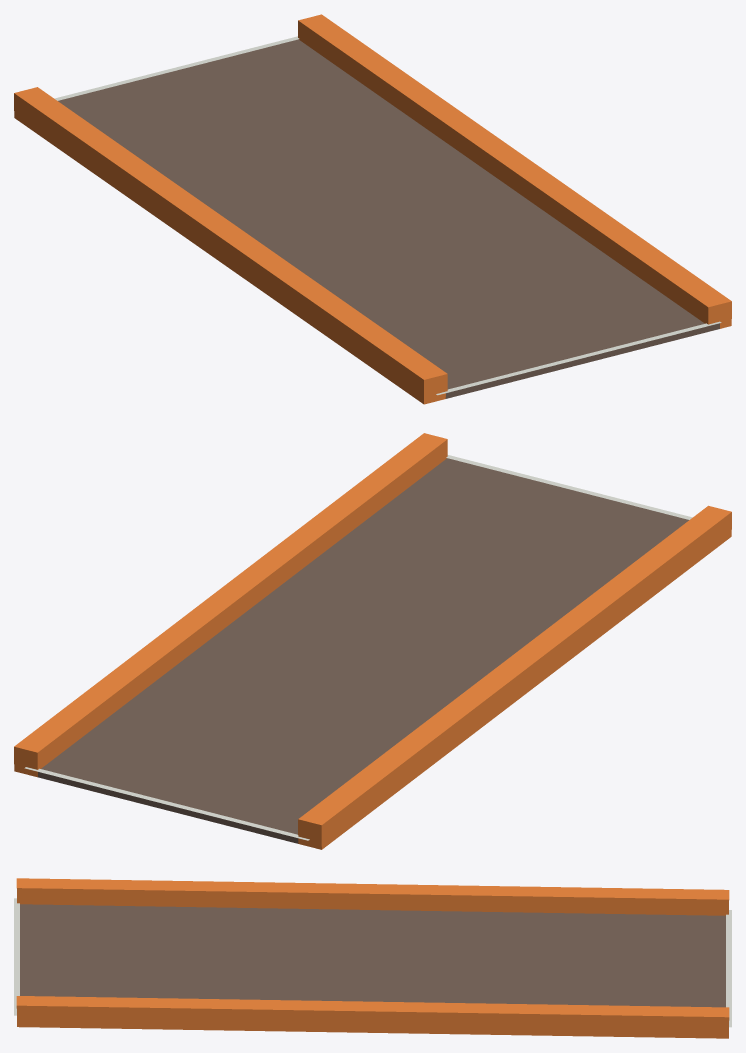
File: SM_MP_Film_B_4_0.fbx
3 renders of one model, top to bottom at view 1: azimuth 30°, elevation 25°; view 2: azimuth 150°, elevation 25°; view 3: azimuth 270°, elevation 25°, orthographic. The views are drawn at different scales.
Parts seen in each view (by area): view 1: SM_MP_Film_B_4_0; view 2: SM_MP_Film_B_4_0; view 3: SM_MP_Film_B_4_0.
Part boxes in pixels (box(x1,y1,x2,y2)): SM_MP_Film_B_4_0: box(14, 14, 731, 404); SM_MP_Film_B_4_0: box(14, 433, 731, 849); SM_MP_Film_B_4_0: box(14, 878, 731, 1038).
Size of what is drawn, in the model's own units: 260 by 605 by 33.66.
